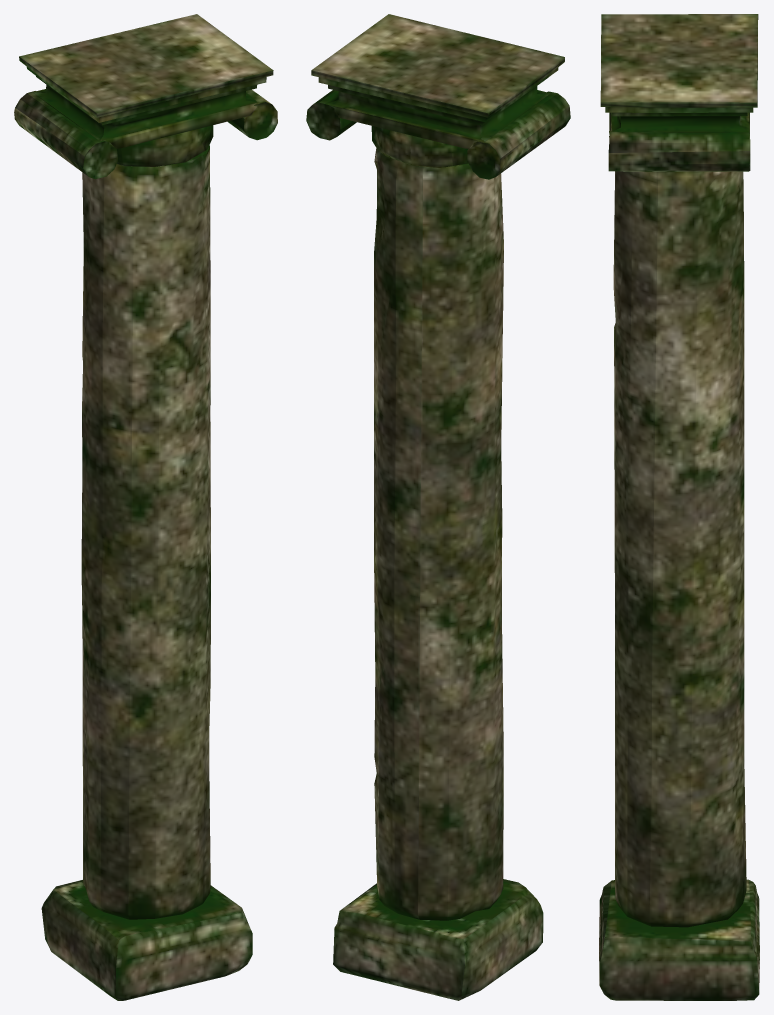
File: pillar-ruin.lod1.glb
3 renders of one model, left to right at view 1: azimuth 30°, elevation 25°; view 2: azimuth 150°, elevation 25°; view 3: azimuth 270°, elevation 25°, orthographic.
Visible parts, largest first — view 1: Pillar_lambert1_0; view 2: Pillar_lambert1_0; view 3: Pillar_lambert1_0.
Boxes of the visible parts, x1,y1,x2,y2 form: Pillar_lambert1_0: [14, 14, 277, 1000]; Pillar_lambert1_0: [306, 14, 570, 1000]; Pillar_lambert1_0: [599, 14, 759, 1000].
Size of the model in its own units: 1.37 by 5.99 by 0.9577.
Materials: 1 (1 with a texture image).
